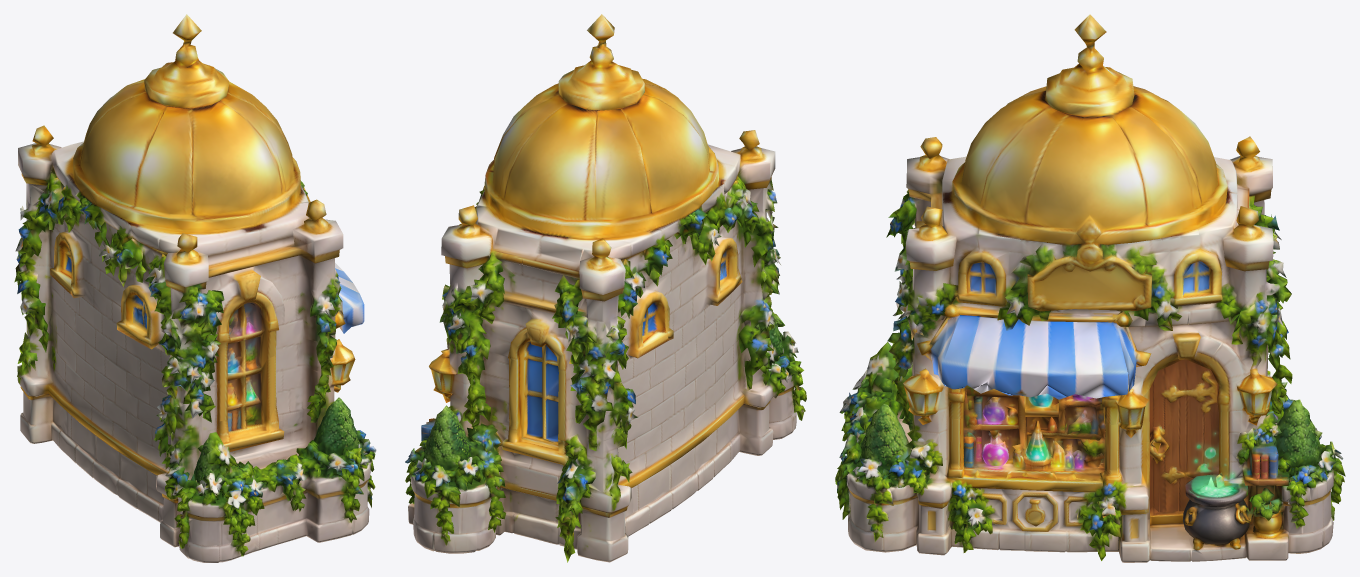
Rendered from HaloShop_Potion_HD_src.glb.
The picture shows the model from 3 angles, left to right: view 1: azimuth 30°, elevation 25°; view 2: azimuth 150°, elevation 25°; view 3: azimuth 270°, elevation 25°; orthographic projection. The views are drawn at different scales.
Visible parts, largest first — view 1: tripo_node_813015b1-3b15-4e96-a9f2-354573b5d5a4; view 2: tripo_node_813015b1-3b15-4e96-a9f2-354573b5d5a4; view 3: tripo_node_813015b1-3b15-4e96-a9f2-354573b5d5a4.
Part boxes in pixels (box(x1,y1,x2,y2)): tripo_node_813015b1-3b15-4e96-a9f2-354573b5d5a4: box(14, 14, 376, 562); tripo_node_813015b1-3b15-4e96-a9f2-354573b5d5a4: box(405, 14, 806, 562); tripo_node_813015b1-3b15-4e96-a9f2-354573b5d5a4: box(835, 14, 1345, 562).
Bounding box in the file's own units: 0.5301 × 0.9824 × 0.9128.
1 material, 1 textured.
